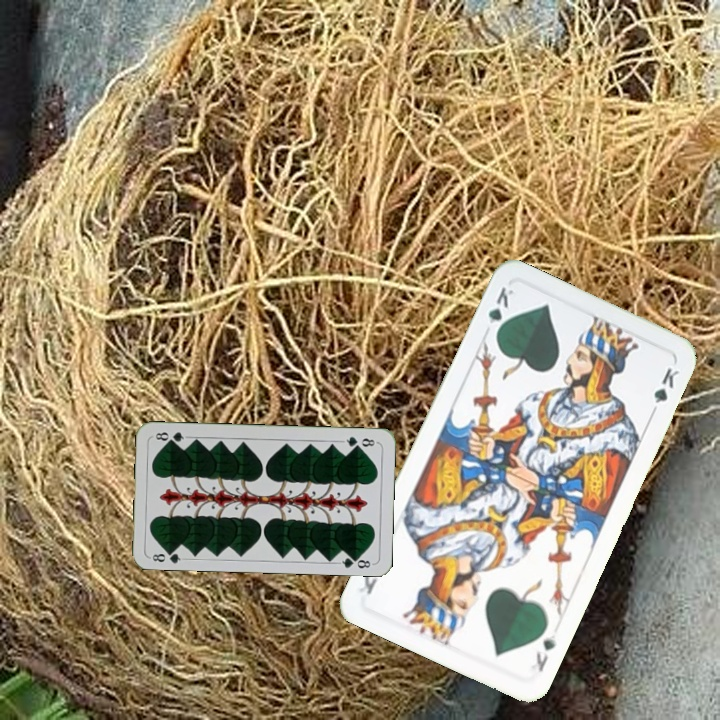G8: (147, 546, 187, 566), (339, 432, 379, 450)
GK: (484, 282, 516, 341), (531, 630, 559, 674)
